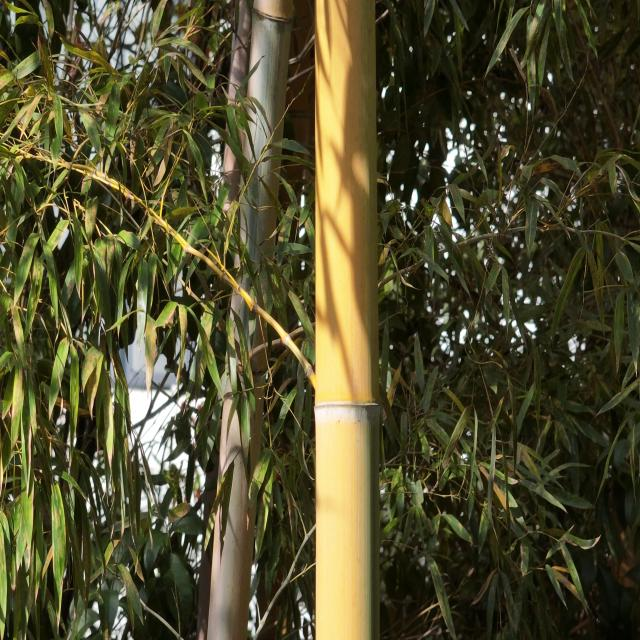Bamboo-shoots: (315, 0, 380, 639)
